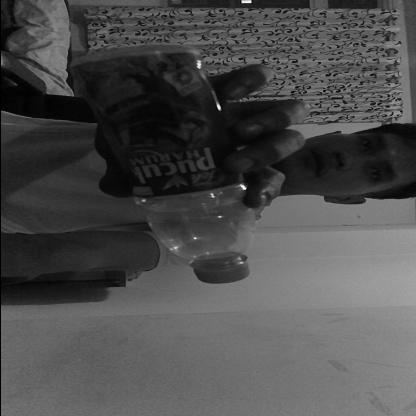plastic_bottles: (67, 48, 250, 284)
